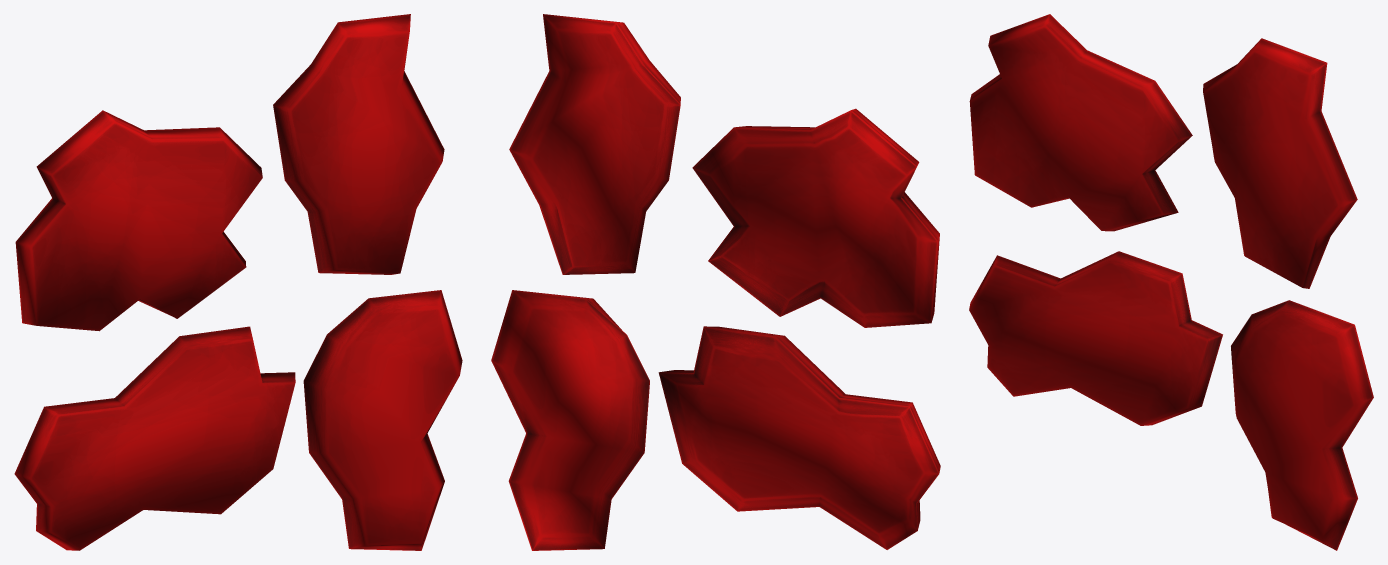
The model's file is Platelets 1.FBX.
3 renders of one model, left to right at view 1: azimuth 30°, elevation 25°; view 2: azimuth 150°, elevation 25°; view 3: azimuth 330°, elevation 25°, orthographic. The views are drawn at different scales.
Parts seen in each view (by area): view 1: PlateletB, PlateletA, PlateletC, PlateletD; view 2: PlateletB, PlateletA, PlateletC, PlateletD; view 3: PlateletB, PlateletA, PlateletC, PlateletD.
Part boxes in pixels (x1=…): PlateletB: x1=15, y1=110, x2=262, y2=331; PlateletA: x1=14, y1=326, x2=295, y2=550; PlateletC: x1=273, y1=14, x2=444, y2=274; PlateletD: x1=303, y1=290, x2=462, y2=550; PlateletB: x1=692, y1=108, x2=939, y2=327; PlateletA: x1=658, y1=326, x2=940, y2=549; PlateletC: x1=509, y1=14, x2=680, y2=274; PlateletD: x1=491, y1=290, x2=649, y2=550; PlateletB: x1=969, y1=14, x2=1192, y2=231; PlateletA: x1=969, y1=251, x2=1222, y2=425; PlateletC: x1=1203, y1=38, x2=1357, y2=288; PlateletD: x1=1231, y1=300, x2=1373, y2=550.
Bounding box in the file's own units: 53.64 × 62.8 × 1.8.
